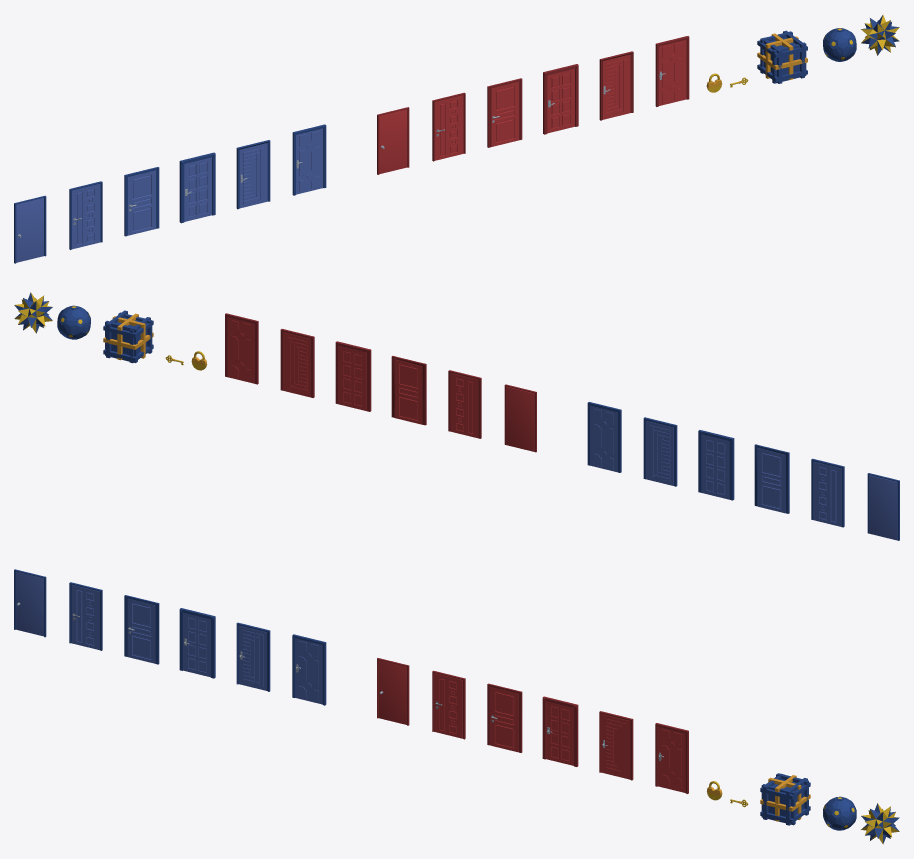
File: doors.fbx
3 views of the same model, one above another, from view 1: azimuth 30°, elevation 25°; view 2: azimuth 150°, elevation 25°; view 3: azimuth 330°, elevation 25° (orthographic).
Parts seen in each view (by area): view 1: key_1, door4, door1, door4.001, door1.001, door5, door6.001, door6, door2, door2.001, door5.001, door3 (+11 smaller); view 2: key_1, door5.001, door5, door4.001, door2, door2.001, door4, door3.001, door6, door6.001, door3, door1 (+13 smaller); view 3: key_1, door1.001, door4, door1, door2, door2.001, door6, door6.001, door4.001, door5.001, door5, door3 (+11 smaller).
Boxes of the visible parts, x1,y1,x2,y2 form: key_1: (757, 30, 807, 83); door4: (435, 95, 463, 160); door1: (602, 54, 630, 119); door4.001: (72, 184, 100, 249); door1.001: (239, 143, 267, 208); door5: (379, 109, 407, 174); door6.001: (296, 128, 323, 194); door6: (659, 39, 686, 105); door2: (491, 82, 518, 146); door2.001: (128, 170, 155, 235); door5.001: (16, 198, 43, 262); door3: (547, 68, 574, 133); key_1: (103, 310, 153, 363); door5.001: (869, 475, 897, 540); door5: (506, 386, 534, 451); door4.001: (813, 461, 841, 526); door2: (394, 359, 422, 424); door2.001: (757, 448, 785, 513); door4: (450, 373, 478, 438); door3.001: (701, 434, 729, 499); door6: (227, 317, 254, 383); door6.001: (590, 405, 617, 472); door3: (339, 346, 366, 411); door1: (283, 332, 310, 397); key_1: (760, 773, 810, 825); door1.001: (239, 626, 267, 690); door4: (434, 673, 462, 738); door1: (602, 714, 630, 779); door2: (490, 687, 518, 752); door2.001: (127, 598, 155, 663); door6: (658, 726, 685, 792); door6.001: (295, 638, 322, 704); door4.001: (72, 585, 99, 650); door5.001: (16, 571, 43, 636); door5: (379, 660, 406, 724); door3: (546, 701, 573, 765).
Bounding box in the file's own units: 3158 × 214 × 122.
Materials: 1 (1 with a texture image).
